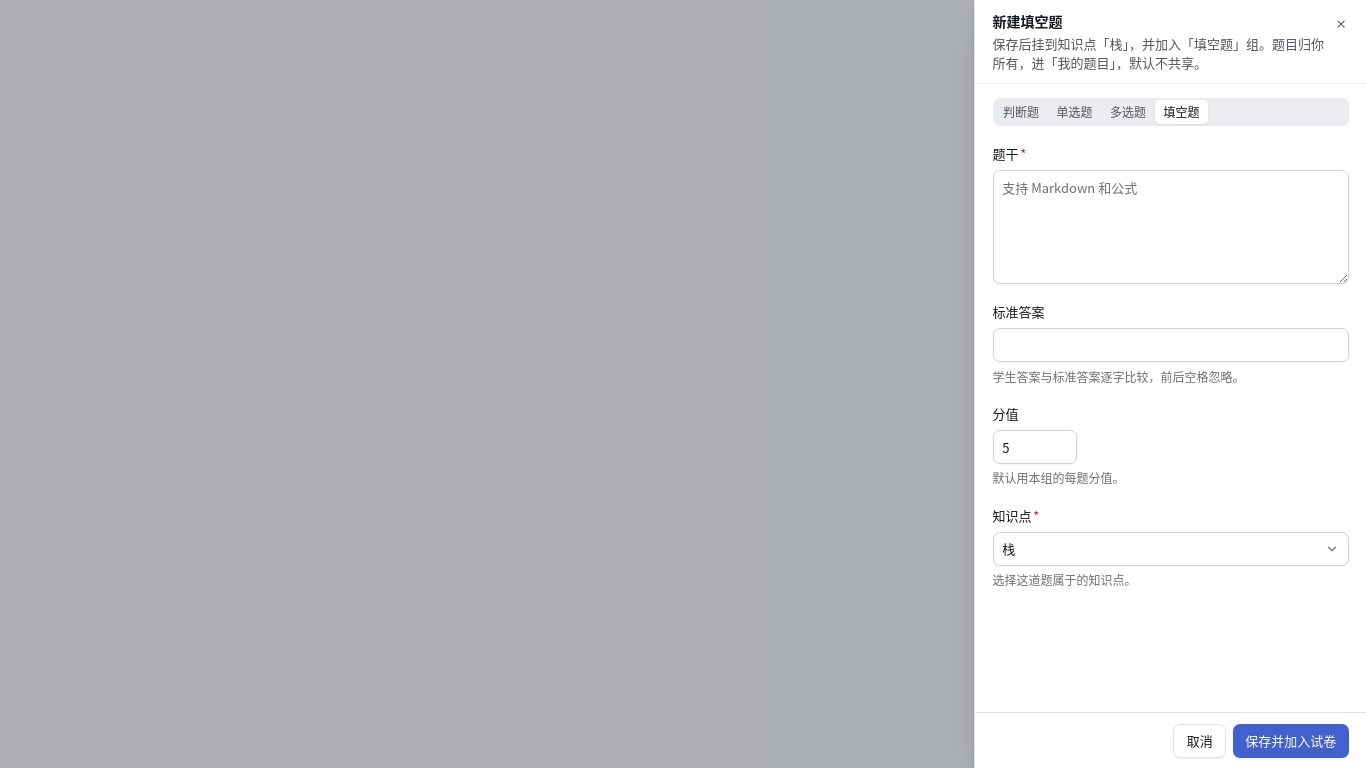
objective quick-create sheet › rejects a blank answer that is only spaces
Clear the text box labelled "题干*" at (1170, 227), box left=992, top=170, right=1348, bottom=284
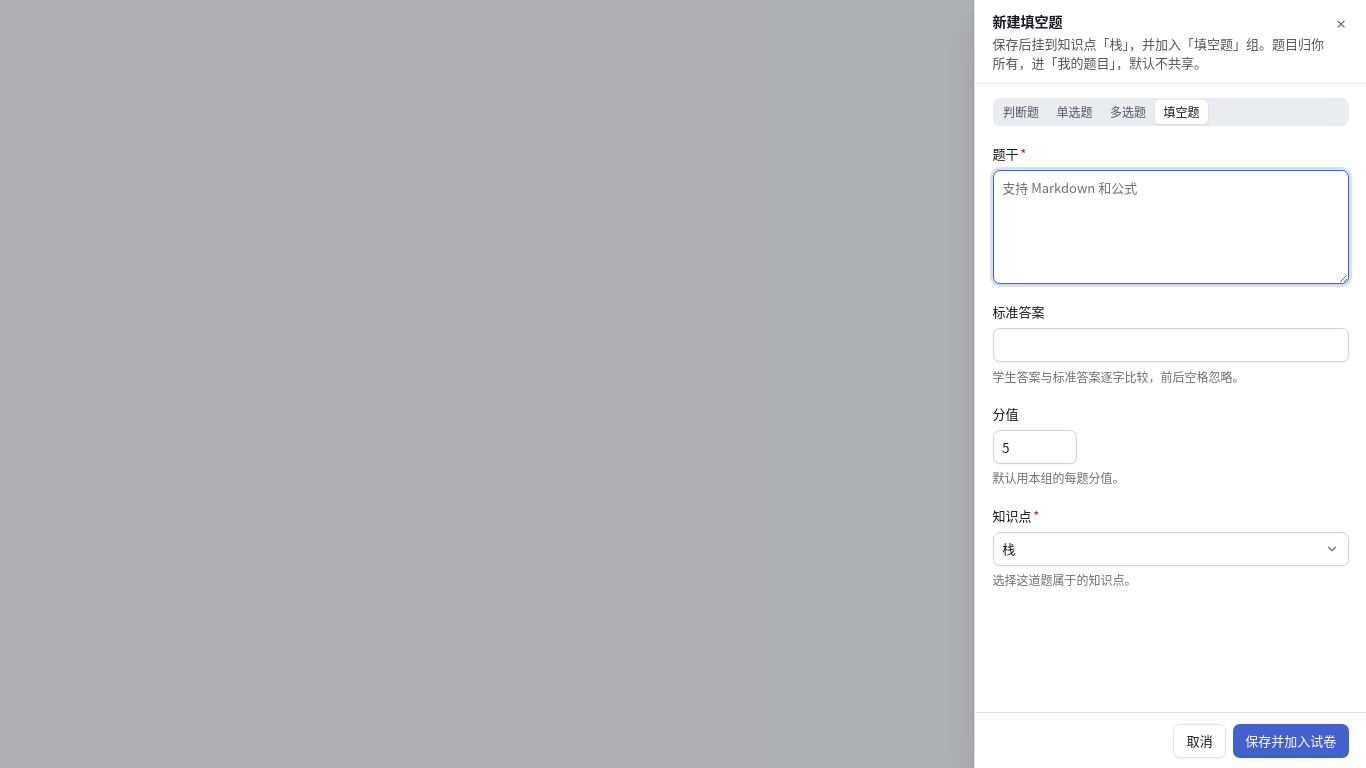
Type keys "空格不能当答案"
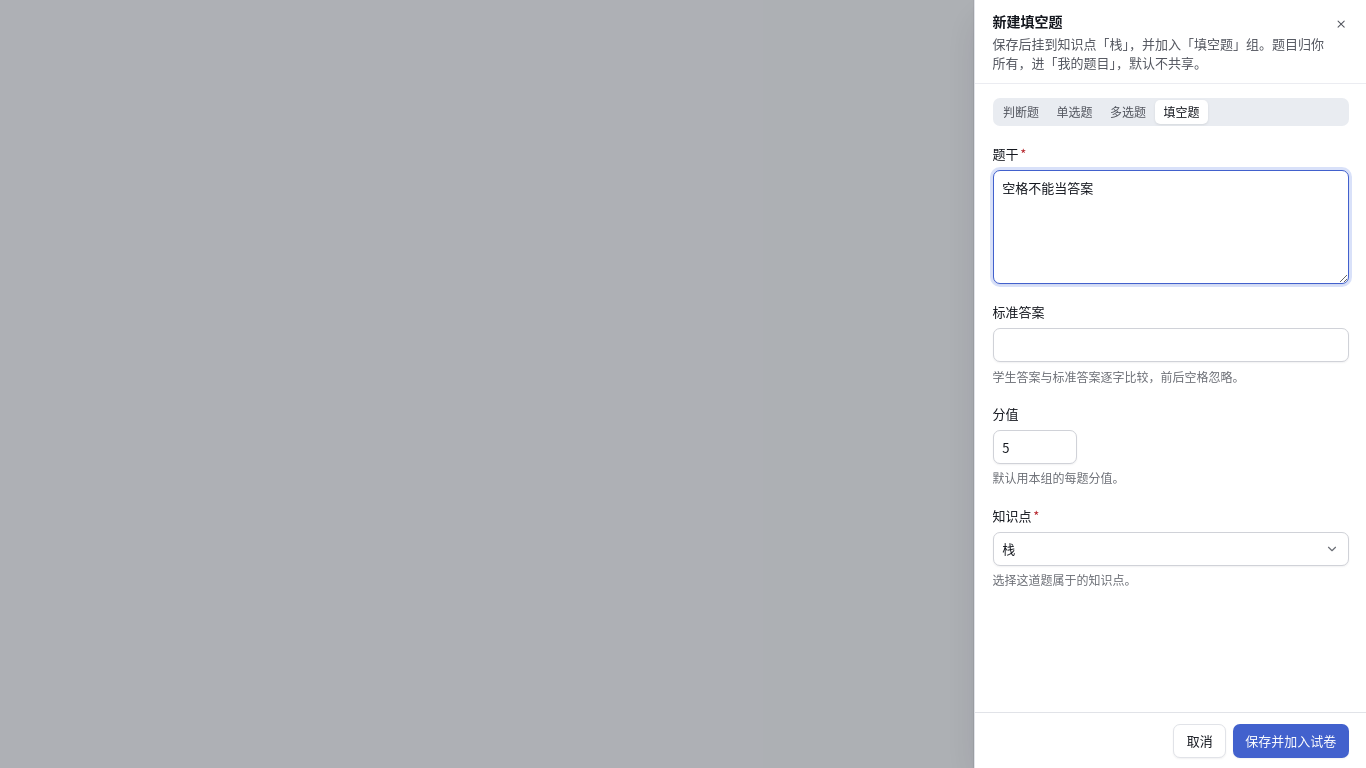
Clear the field labelled "标准答案" at (1170, 345), box left=992, top=328, right=1348, bottom=362
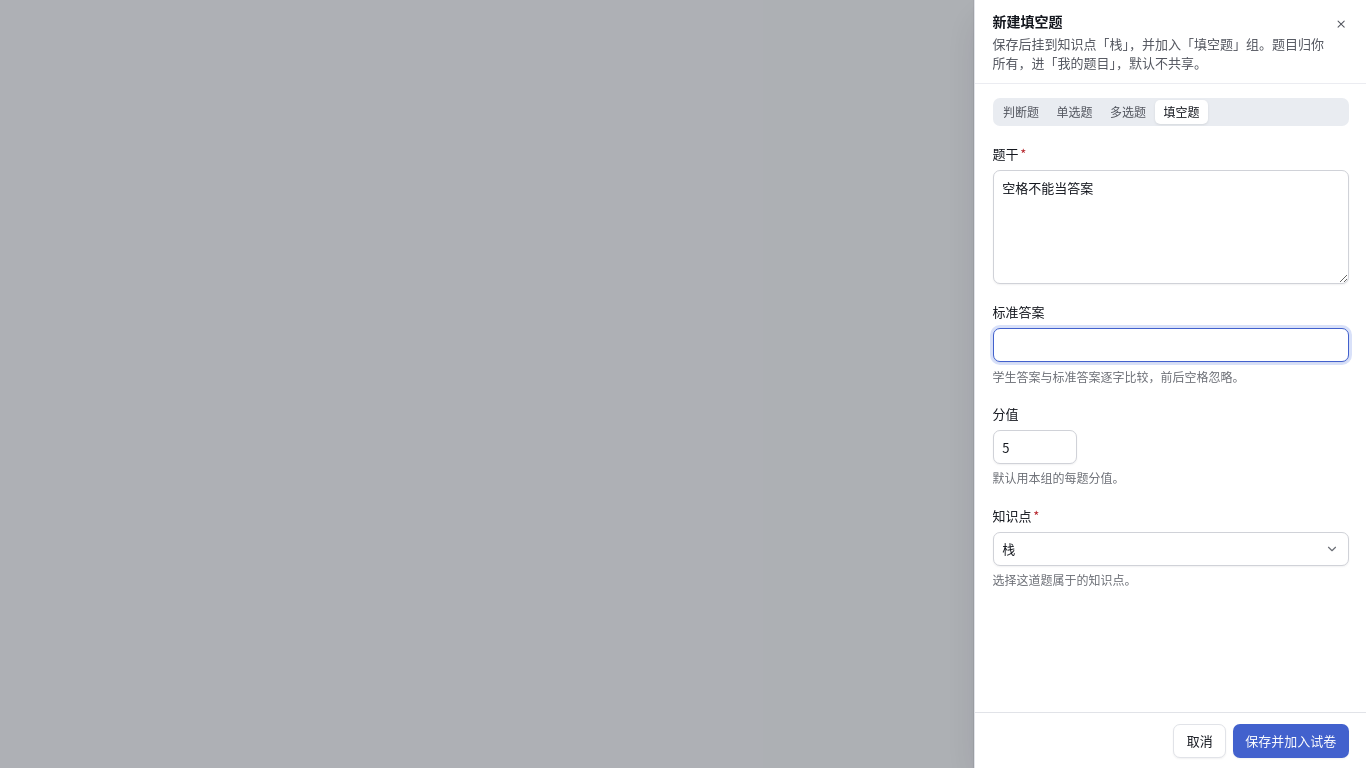
Type keys "   "
Click the button "保存并加入试卷" at (1291, 740), box left=1233, top=724, right=1348, bottom=758
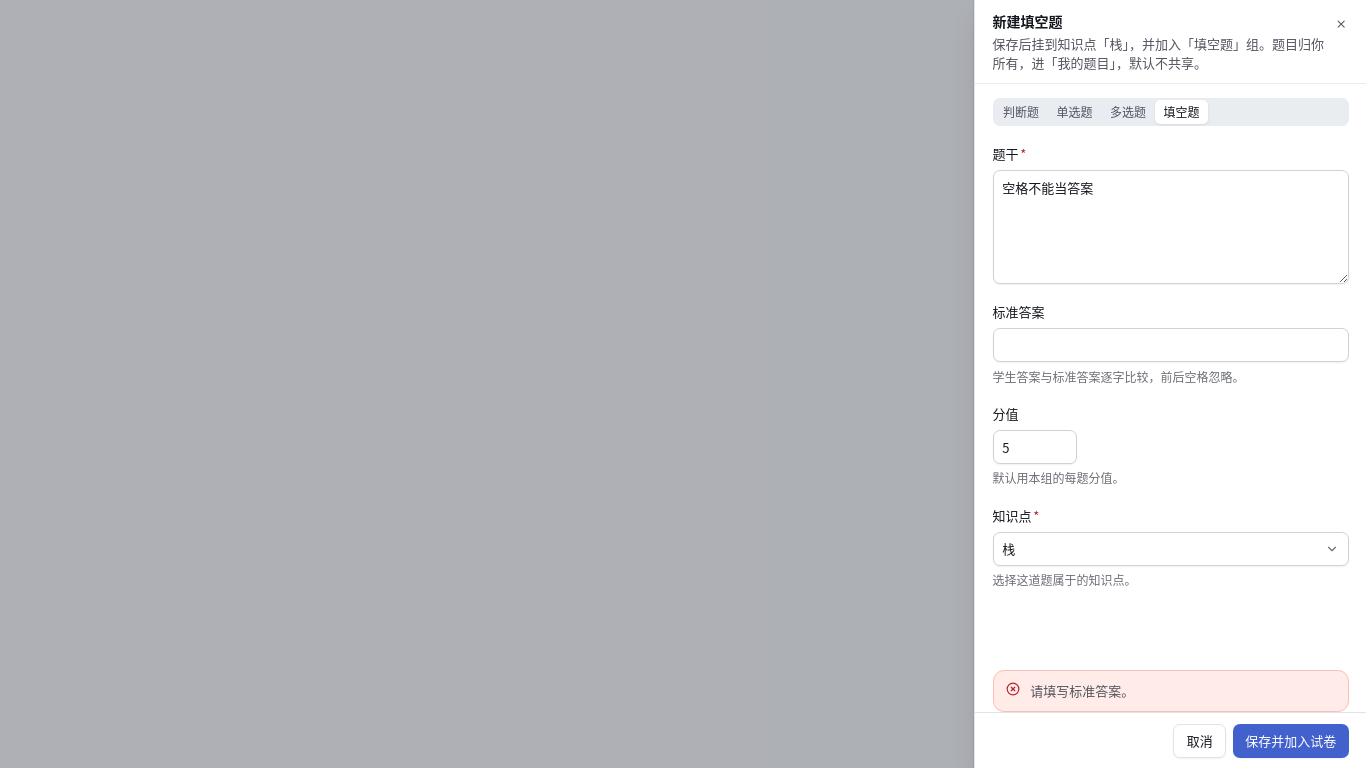
expect the message "请填写标准答案。" is shown: met, box left=992, top=670, right=1348, bottom=712
